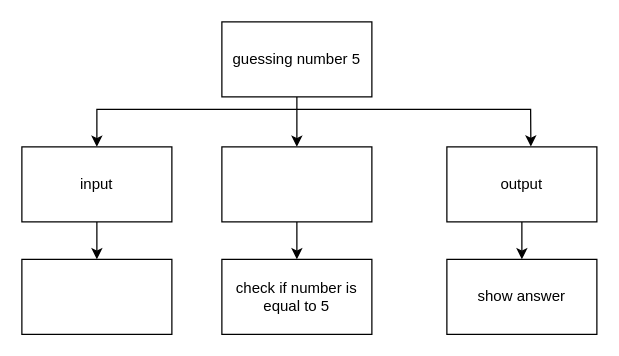
Image size: 619x356. Some labels were removed from this diagram. Here are the shapes that lost their labels. From the top down, the centre of each, then its label:
the point at 296,184: process
the point at 96,296: ask user to input number between 0 and 9
